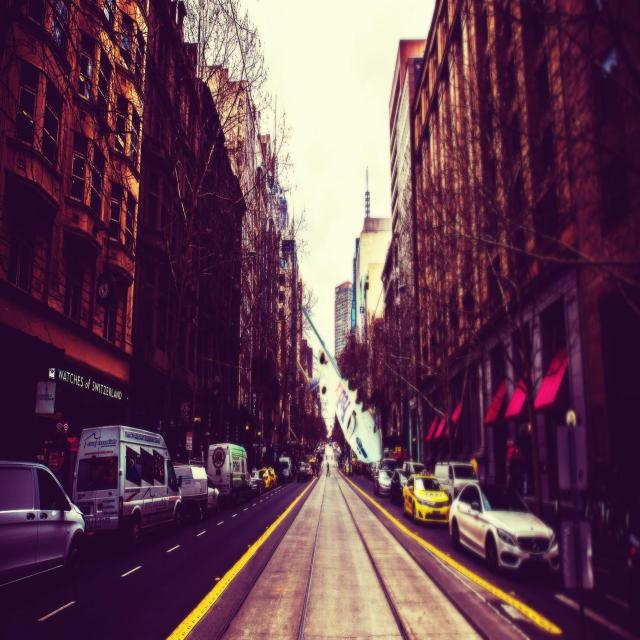airplane: (296, 303, 383, 464)
